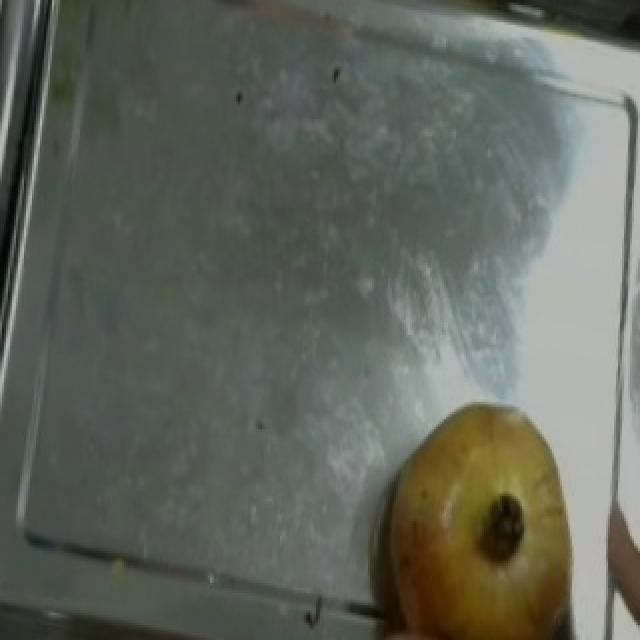fruit: (366, 384, 582, 640)
